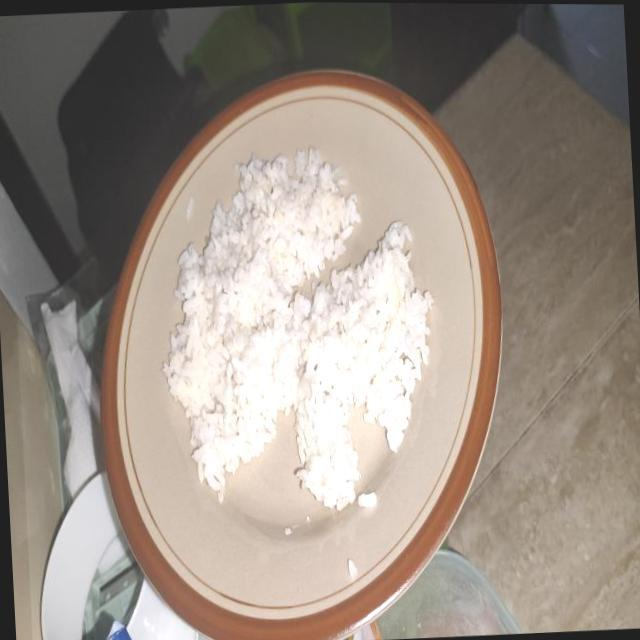nasi_putih: (162, 148, 434, 510)
